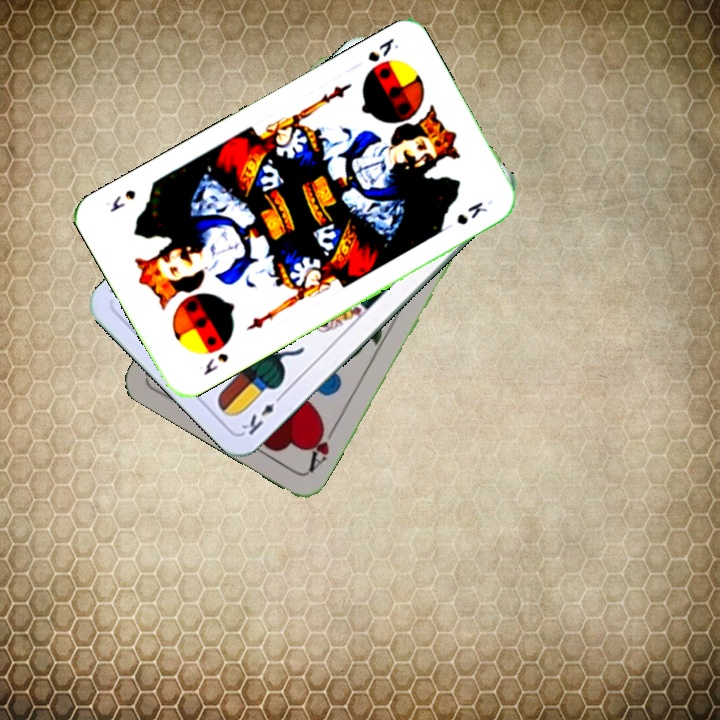EK: (237, 389, 286, 438)
HA: (303, 419, 339, 475)
SK: (363, 33, 401, 65), (199, 348, 231, 378)
